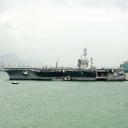Portanaves: (4, 47, 128, 82)
